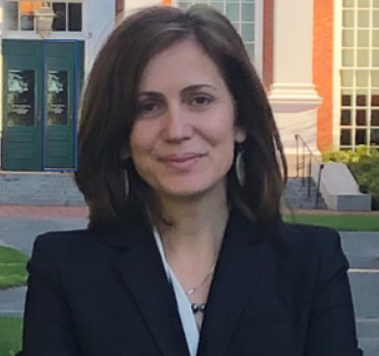Staff: (40, 0, 299, 280)
